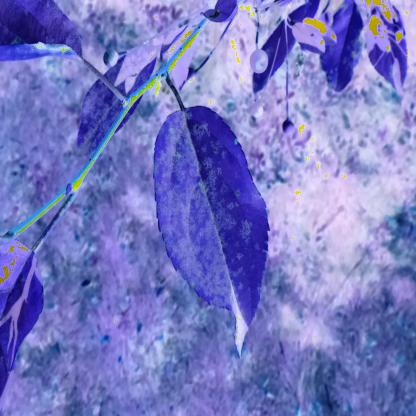apple scab leaf: (151, 99, 283, 366), (75, 30, 168, 186), (318, 2, 370, 100)
